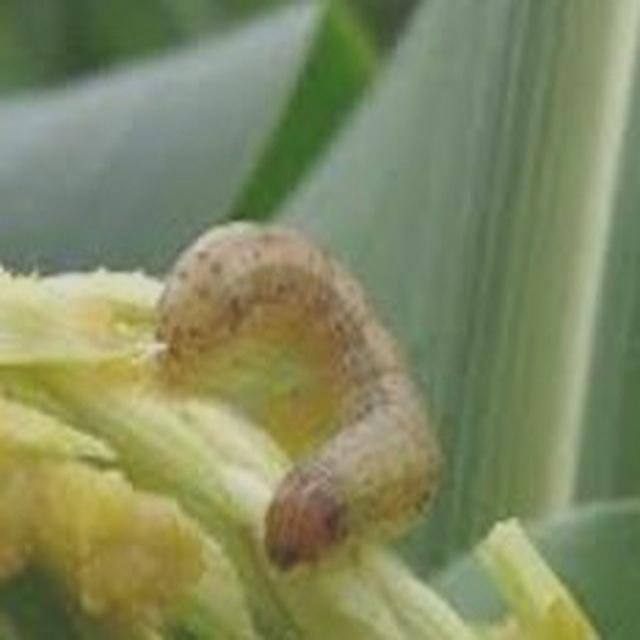gusano_cogollero: (149, 215, 442, 578)
